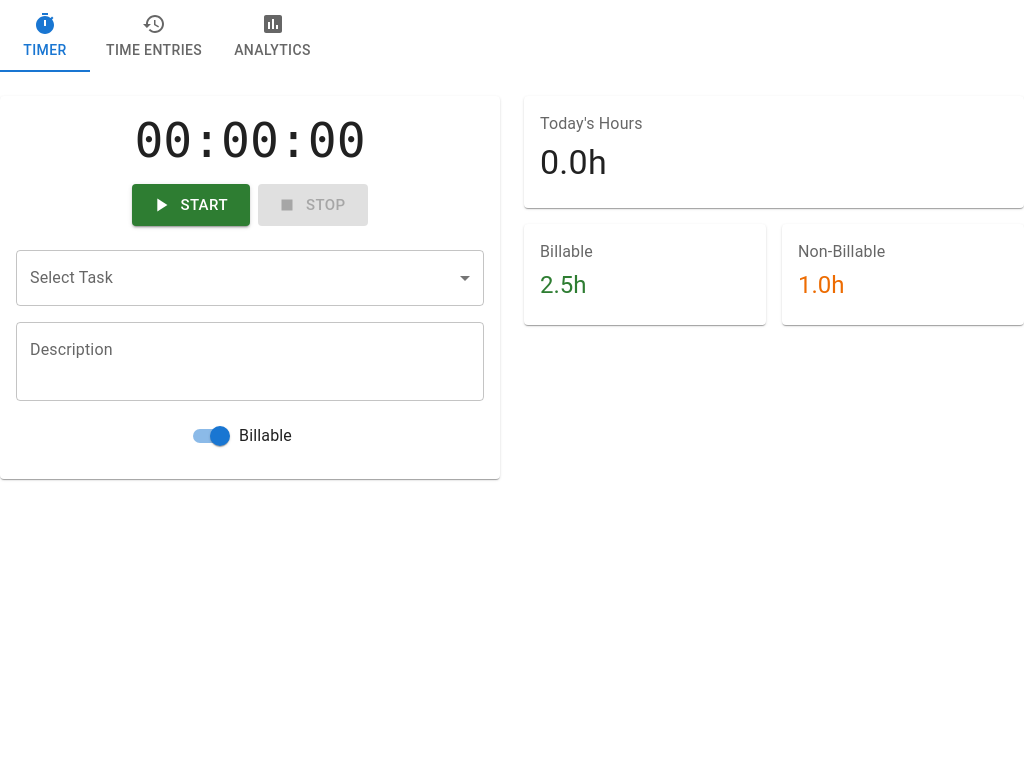
Scenario: TimeTracker › opens manual entry dialog when Add Manual Entry is clicked
Switch to time entries tab
Click the tab "Time Entries" at (154, 36), box left=90, top=0, right=218, bottom=72
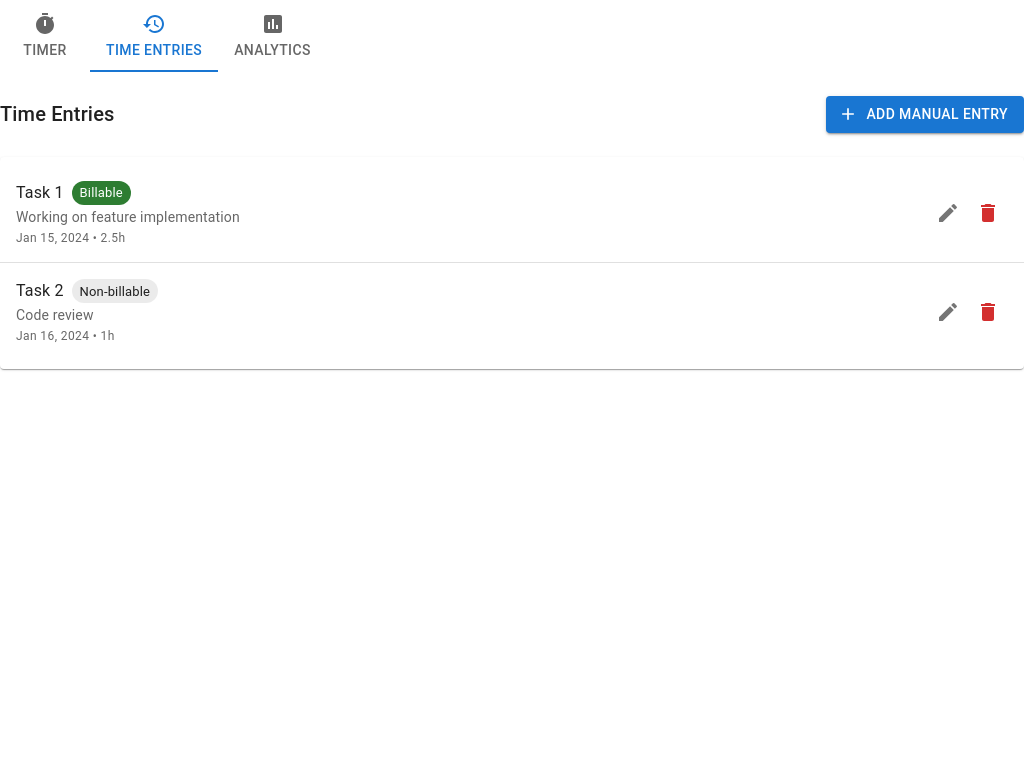
Click the button "Add Manual Entry" at (925, 114), box left=826, top=96, right=1023, bottom=132
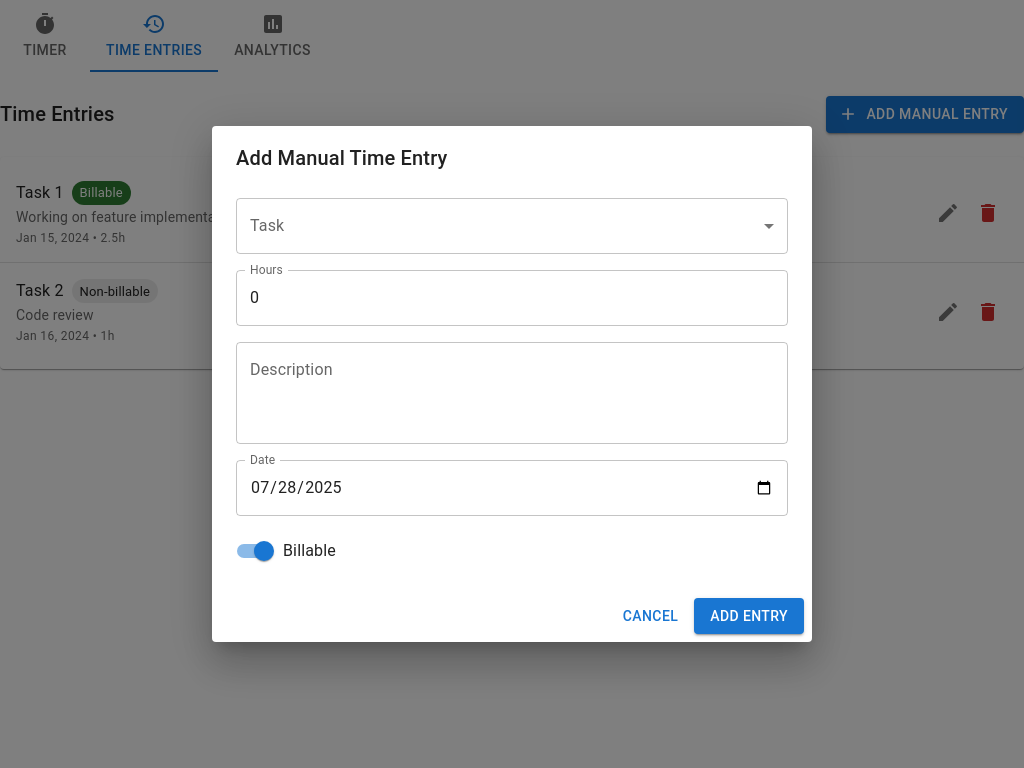
Expected: the heading "Add Manual Time Entry" is shown, left=236, top=146, right=447, bottom=170
